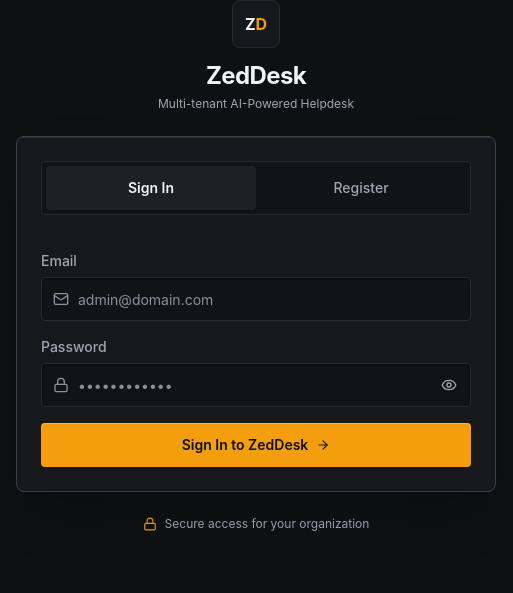
AuthCard Component › displays crimson borders and accessible inline alert text on Sign In validation failure
This screenshot has width=513, height=593.
Submit empty
Click the button with aria-label "log in" at (256, 445), box [41,423,471,467]
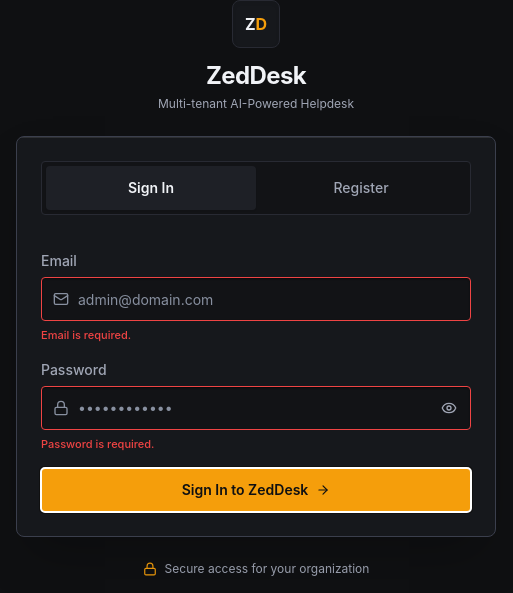
Expected: the text "Email is required." is shown, [41,328,131,342]
Expected: the text "Password is required." is shown, [41,436,154,450]
